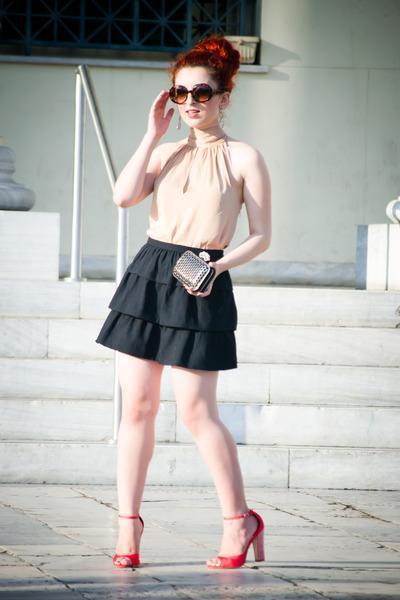bag: (173, 252, 231, 295)
shirt: (147, 132, 249, 275)
shoe: (101, 516, 264, 577)
skirt: (96, 237, 236, 370)
